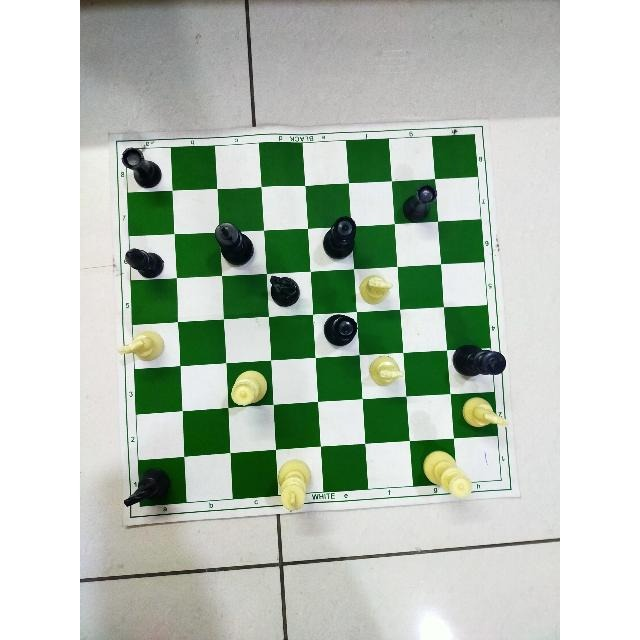black-bishop: (124, 246, 164, 280)
black-king: (214, 221, 256, 268), (452, 342, 508, 377)
black-knight: (122, 465, 173, 508), (268, 273, 300, 308)
black-queen: (323, 214, 357, 261), (323, 312, 359, 348)
black-rook: (120, 146, 163, 190), (401, 183, 437, 223)
white-king: (276, 459, 312, 511)
white-knight: (461, 396, 511, 431), (118, 330, 166, 362), (367, 355, 405, 387), (358, 273, 394, 306)
white-queen: (421, 448, 473, 499), (229, 368, 269, 407)
